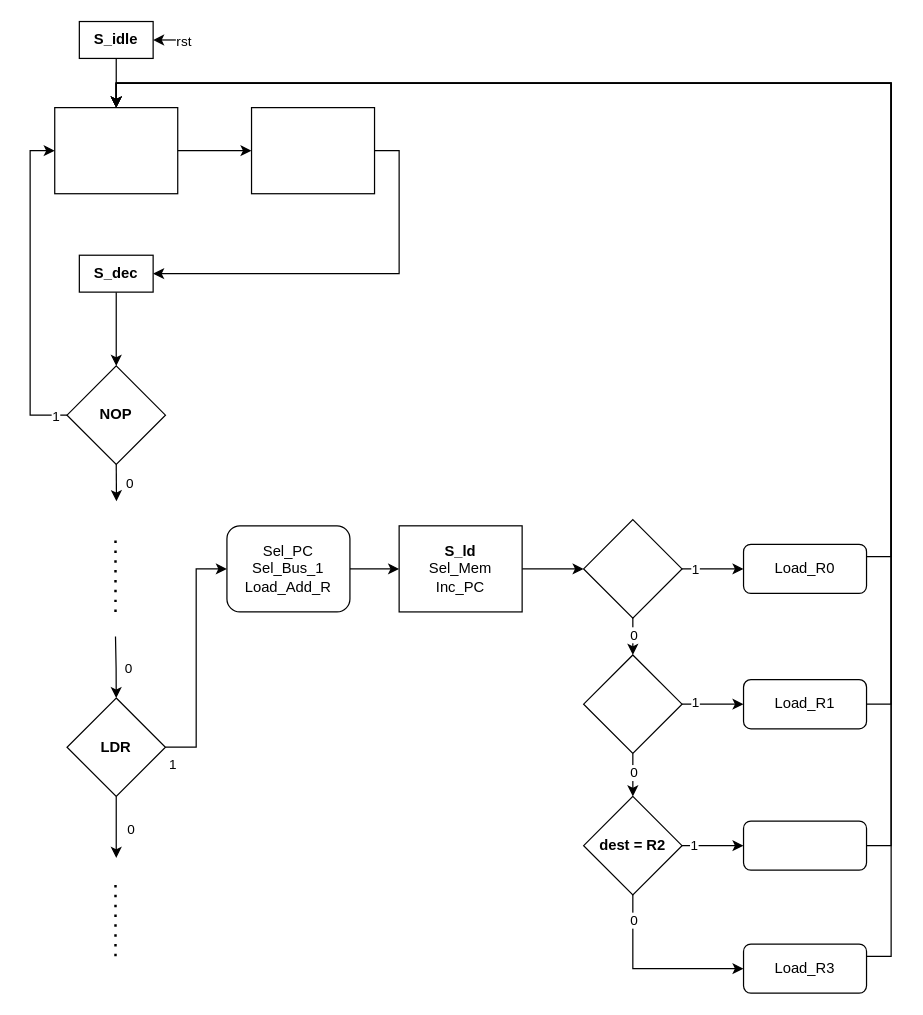
Some shapes in this 923 by 1015 pixel diagram are drawn without their labels. The shapes that lost their labels are listed below. From the top down, each one's centre as x and y in pixels, then its label:
(x=116, y=150): S_fet1 Sel_PC Sel_Bus_1 Load_Add_R
(x=312, y=150): S_fet2 Sel_Mem Load_IR Inc_PC
(x=632, y=568): dest = R0
(x=632, y=703): dest = R1
(x=804, y=845): Load_R2
